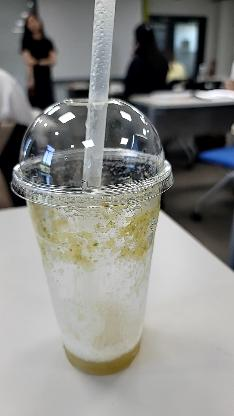Plastic Cup: (9, 95, 177, 377), (11, 98, 176, 209)
